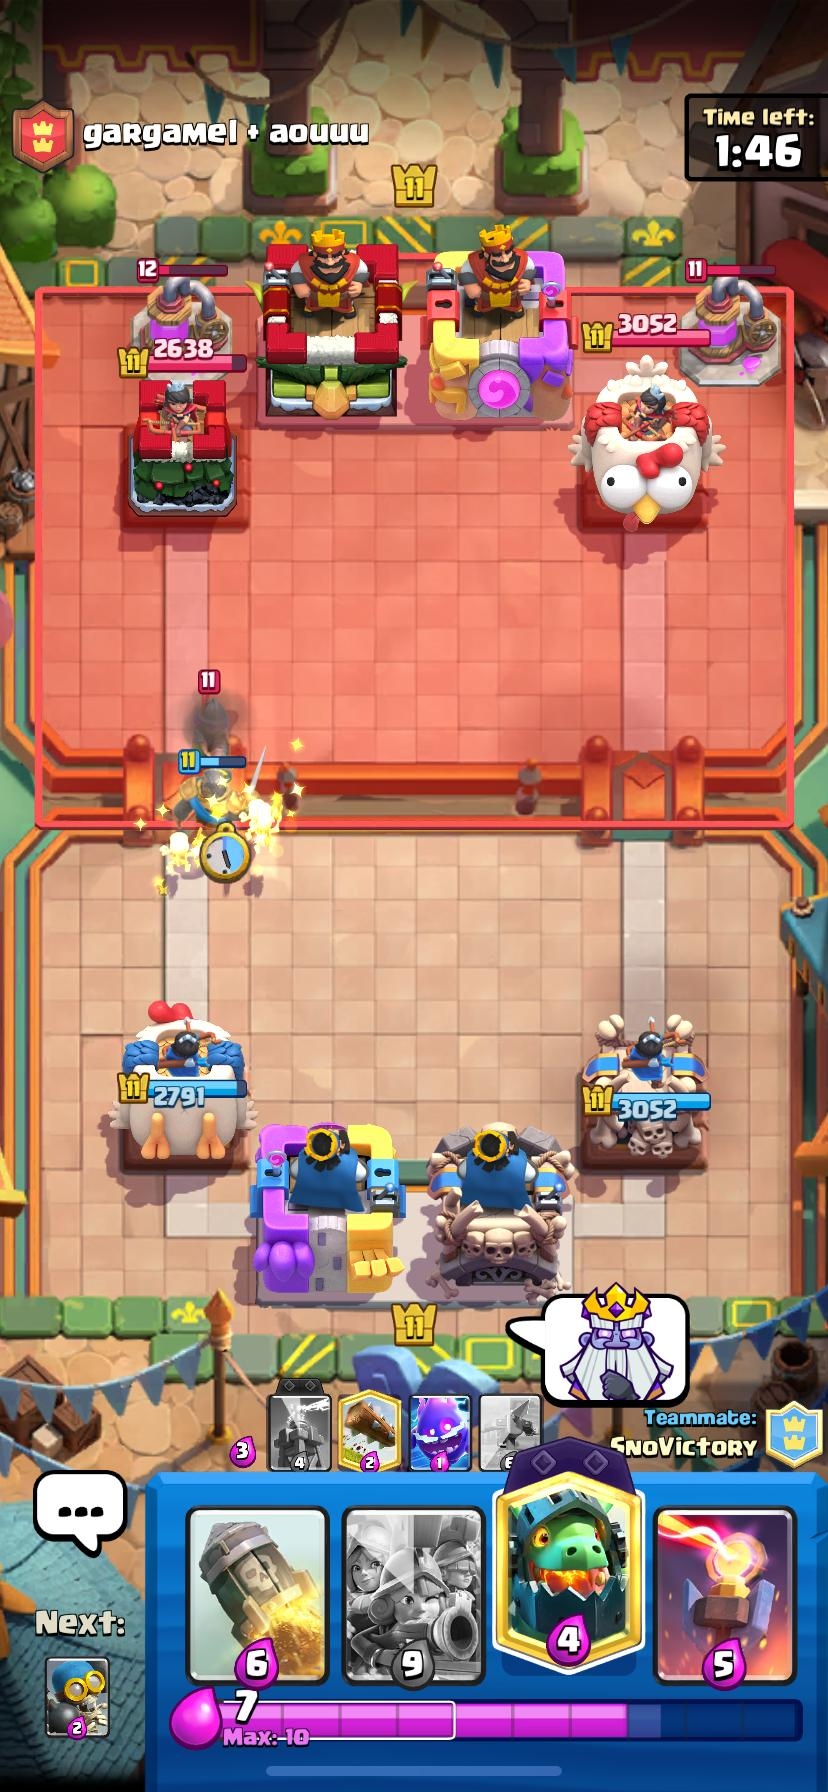EKingTower: (428, 226, 572, 419), (257, 227, 401, 417)
EMusk: (189, 693, 244, 757)
EPump: (680, 277, 780, 386), (132, 277, 231, 361)
EnemyPrincessTower: (574, 357, 712, 523), (126, 376, 237, 521)
OKnight: (165, 768, 248, 829)
OLarry: (249, 794, 281, 856), (160, 831, 200, 878)
OwnKingTower: (250, 1123, 405, 1303), (428, 1123, 574, 1303)
OwnPrincessTower: (109, 1001, 256, 1160), (580, 1014, 710, 1166)
